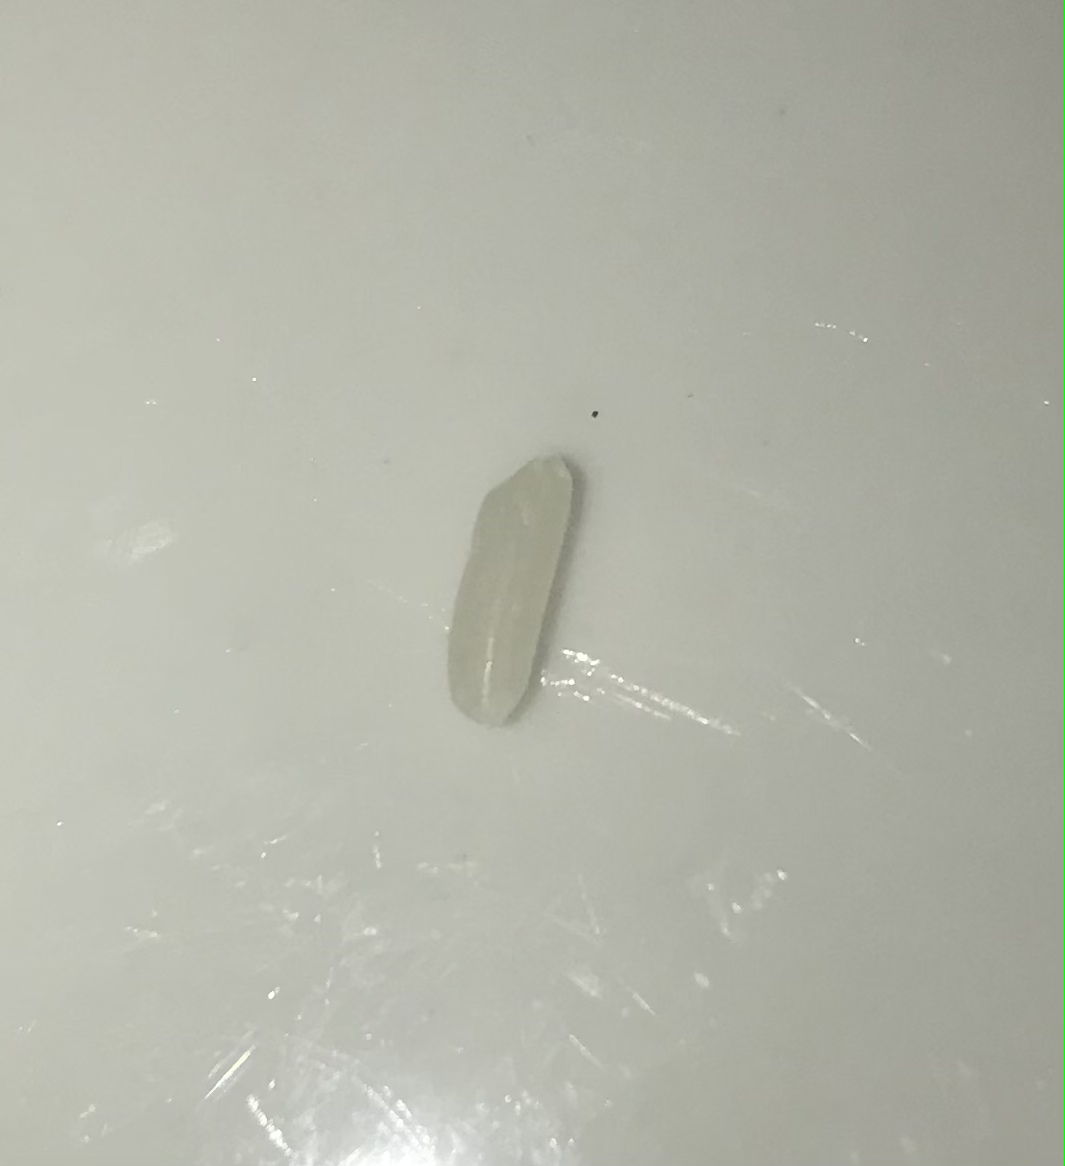Gao Thom Go Cong: (429, 462, 618, 744)
